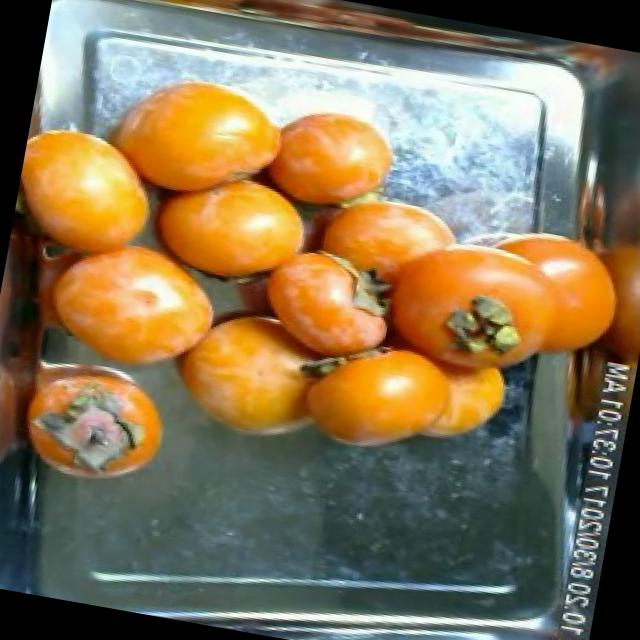Fruit: (117, 146, 330, 306), (6, 106, 180, 286), (241, 86, 419, 226)
